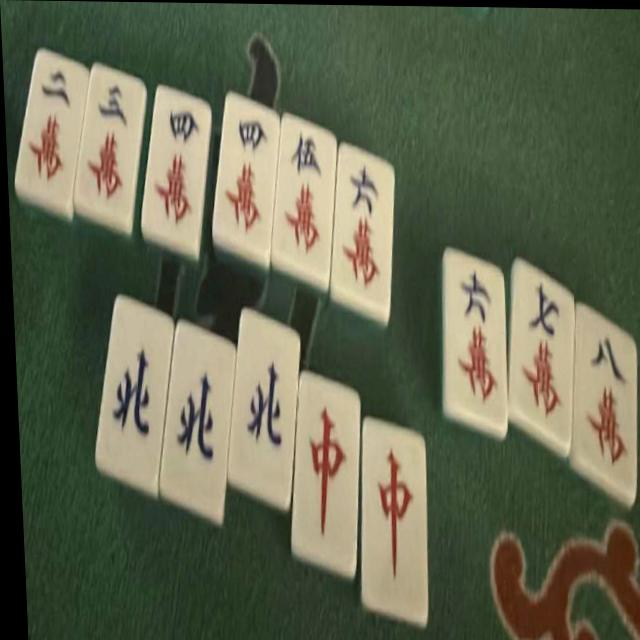2C: (17, 49, 99, 201)
3C: (69, 68, 152, 221)
4C: (148, 88, 211, 246), (219, 101, 278, 250)
5C: (273, 121, 332, 274)
6C: (330, 142, 400, 307), (446, 266, 502, 415)
8C: (581, 319, 636, 485)
9C: (505, 265, 583, 446)
NW: (92, 308, 175, 470), (165, 321, 242, 482), (234, 329, 307, 490)
RD: (286, 372, 368, 562), (355, 420, 433, 617)
